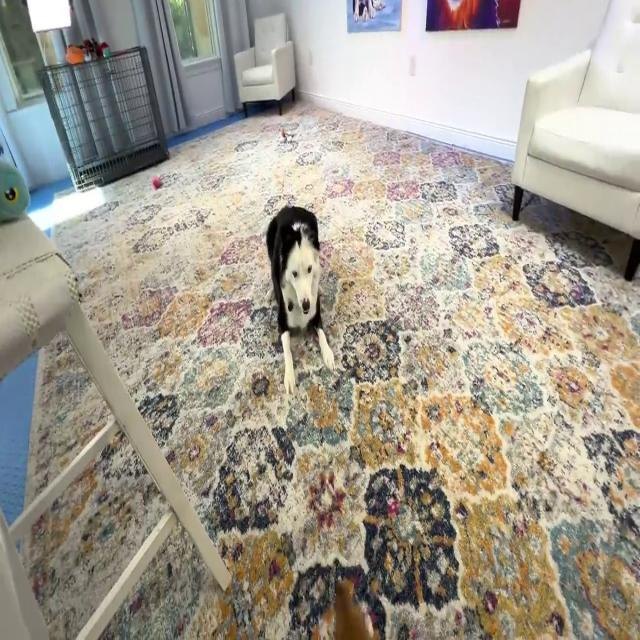Dog: (264, 203, 334, 395)
